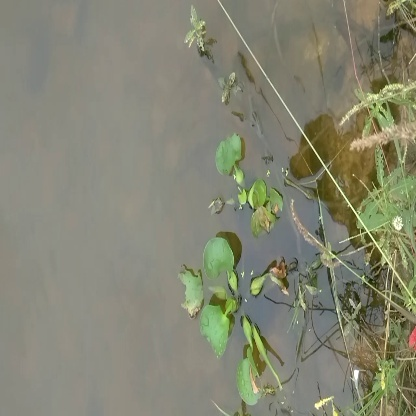leaf: (194, 235, 247, 359)
